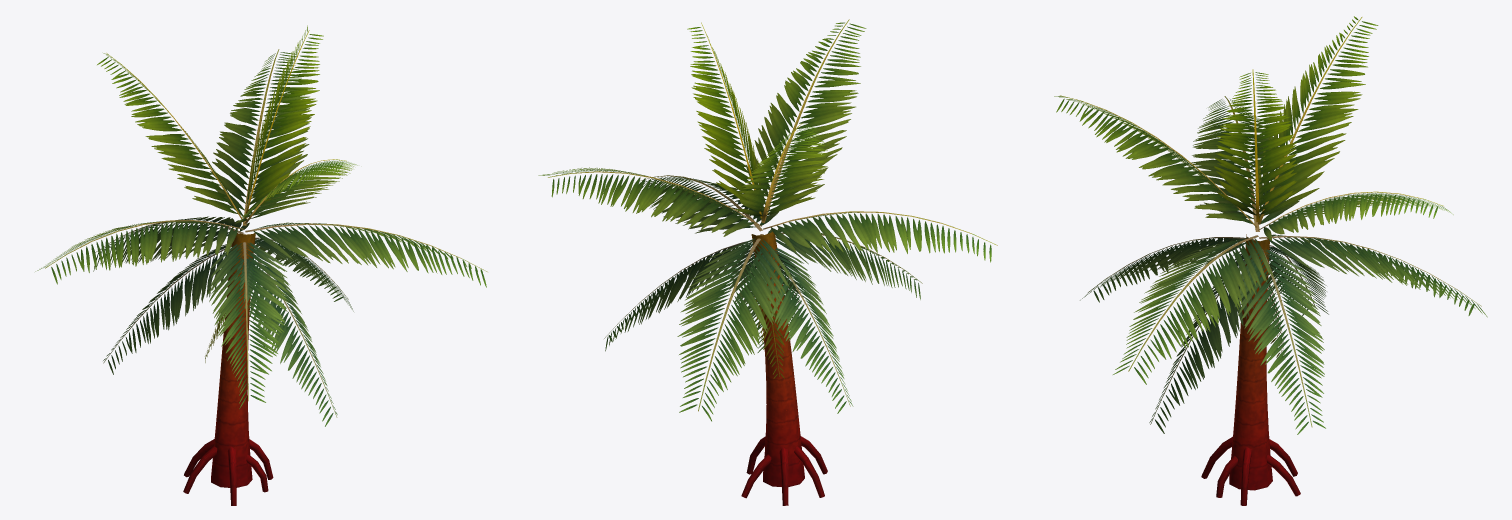
The model's file is palma_sierra_joven.glb.
3 views of the same model, side by side, from view 1: azimuth 30°, elevation 25°; view 2: azimuth 150°, elevation 25°; view 3: azimuth 270°, elevation 25° (orthographic). The views are drawn at different scales.
Parts seen in each view (by area): view 1: palma_sierra; view 2: palma_sierra; view 3: palma_sierra.
Boxes of the visible parts, x1,y1,x2,y2 form: palma_sierra: [35, 25, 487, 505]; palma_sierra: [538, 19, 997, 505]; palma_sierra: [1054, 16, 1487, 505].
Size of the model in its own units: 4.63 by 4.71 by 4.2.
2 materials, 2 textured.
